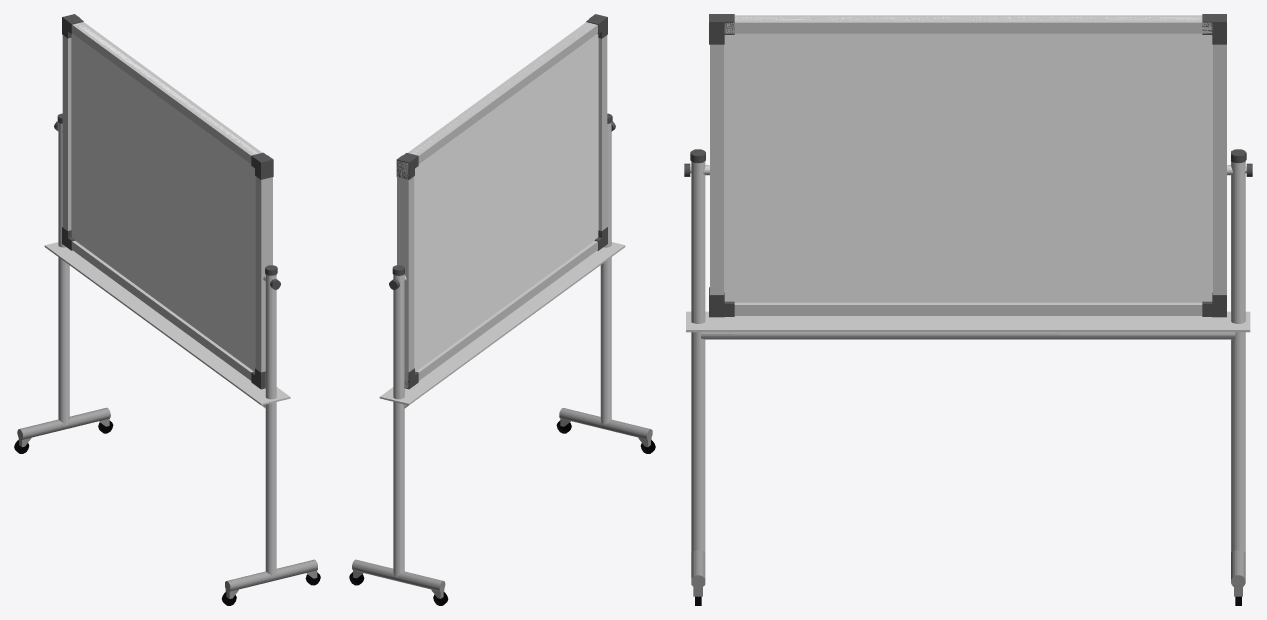
Rendered from whiteboard-transformed.glb.
The picture shows the model from 3 angles, left to right: view 1: azimuth 30°, elevation 25°; view 2: azimuth 150°, elevation 25°; view 3: azimuth 270°, elevation 25°; orthographic projection. The views are drawn at different scales.
Visible parts, largest first — view 1: Corner Horizontal_Material_0; view 2: Corner Horizontal_Material_0; view 3: Corner Horizontal_Material_0.
Part boxes in pixels (x1,y1,x2,y2): Corner Horizontal_Material_0: (14,14,320,605); Corner Horizontal_Material_0: (349,14,655,605); Corner Horizontal_Material_0: (684,14,1252,605).
Size of the model in its own units: 0.8218 by 3.5 by 3.21.
1 material, 1 textured.
